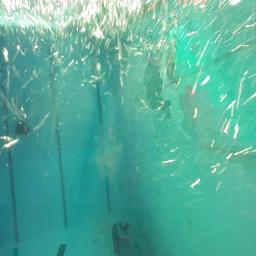Full: (15, 121, 30, 134), (119, 220, 130, 234)
